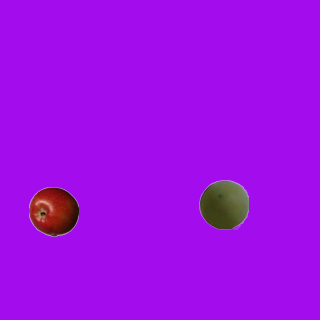Apple Braeburn: (28, 186, 78, 236)
Grape White 4: (198, 179, 248, 229)
